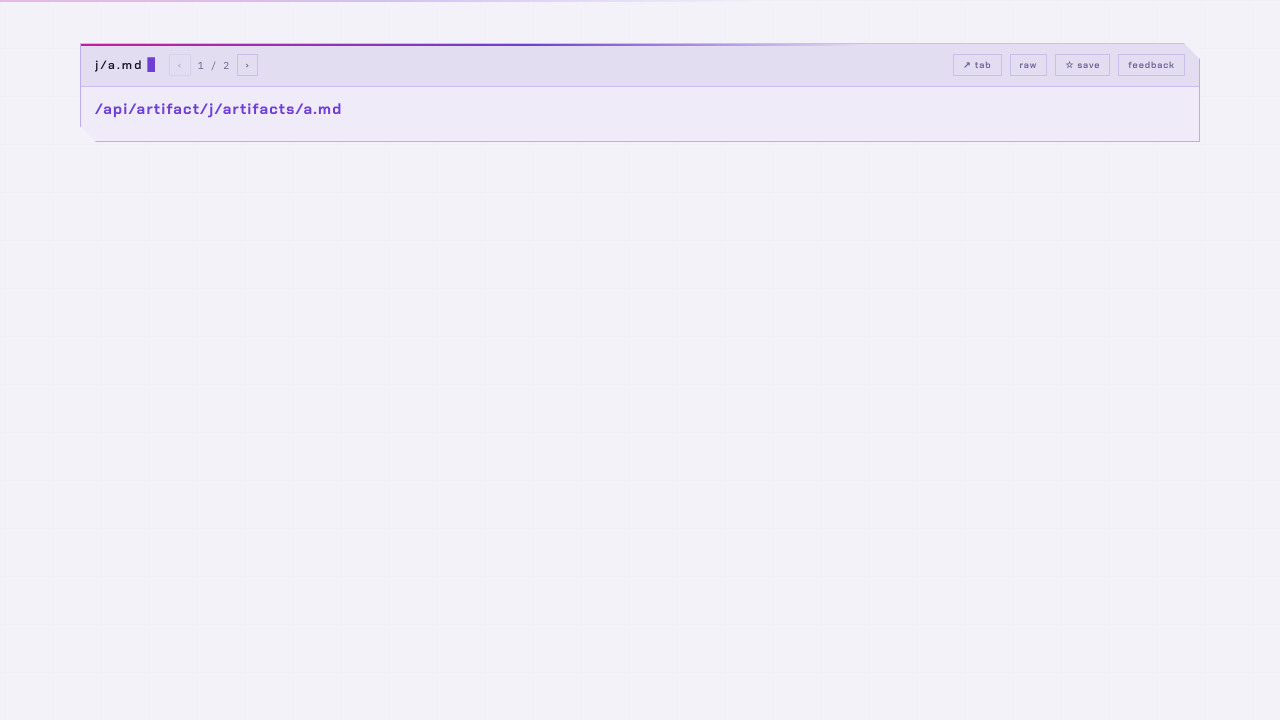
Test case: stepping › resets raw mode and the cached text — via the → key
Click the button "raw" at point(1028, 65), box [1010, 54, 1047, 76]
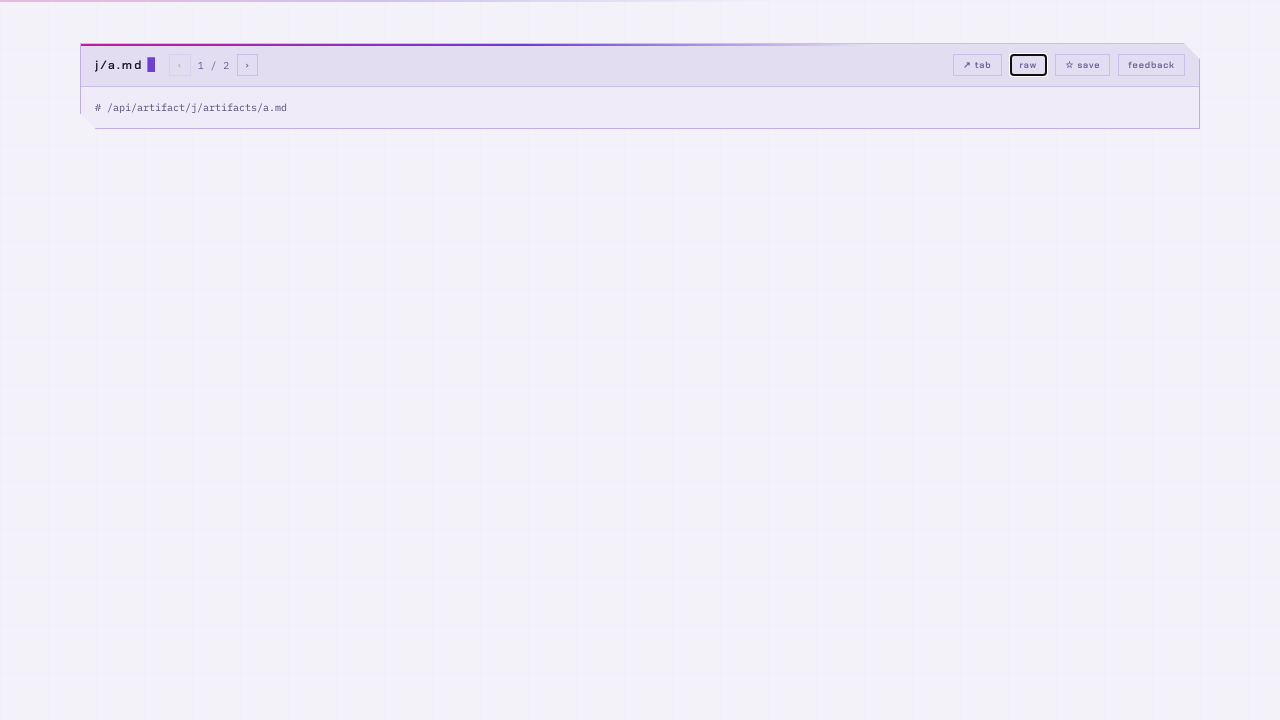
Expected: the text "# /api/artifact/j/artifacts/a.md" is shown, [95, 101, 287, 114]
Result: the text "# /api/artifact/j/artifacts/a.md" has class "raw" at [95, 101, 287, 114]
Press ArrowRight
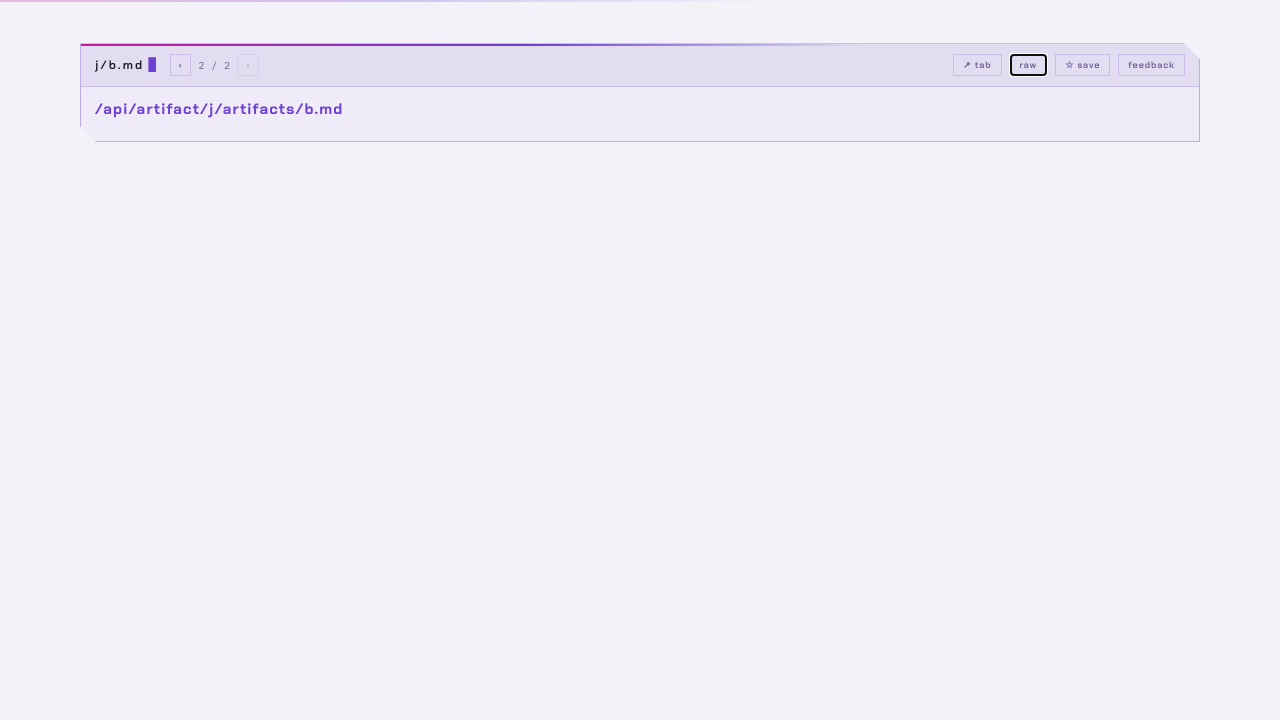
Result: the text "j/b.md" is shown at [95, 57, 160, 73]
Result: the element showing "/api/artifact/j/artifacts/b.md" is shown at [95, 99, 344, 119]
Result: the text "a.md" is gone
